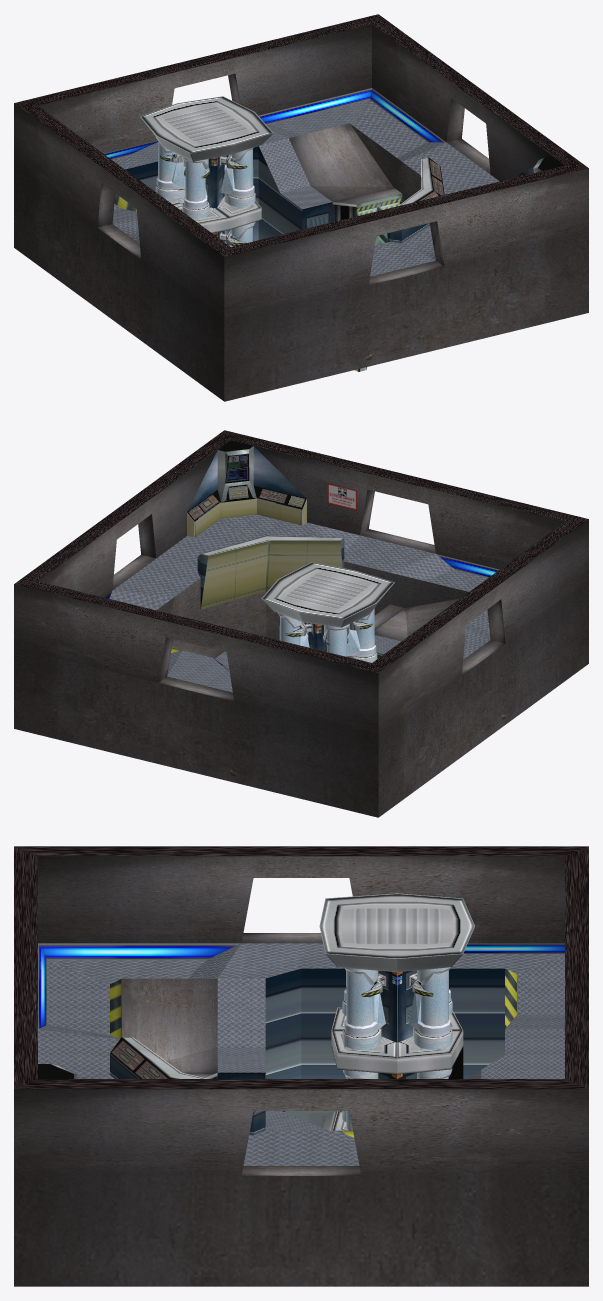
The model's file is alien_containment.FBX.
The picture shows the model from 3 angles, top to bottom: view 1: azimuth 30°, elevation 25°; view 2: azimuth 150°, elevation 25°; view 3: azimuth 270°, elevation 25°; orthographic projection. The views are drawn at different scales.
Visible parts, largest first — view 1: objalien_containment, objCryo_Container02, objCryo_Container01, objCryo_Container04; view 2: objalien_containment, objCryo_Container01, objCryo_Container04, objCryo_Container03; view 3: objalien_containment, objCryo_Container02, objCryo_Container03, objAlCon_Lift.
Boxes of the visible parts, x1=… form: objalien_containment: x1=14, y1=14, x2=588, y2=401; objCryo_Container02: x1=221, y1=148, x2=255, y2=207; objCryo_Container01: x1=182, y1=157, x2=209, y2=218; objCryo_Container04: x1=155, y1=137, x2=185, y2=199; objalien_containment: x1=14, y1=430, x2=588, y2=817; objCryo_Container01: x1=347, y1=606, x2=377, y2=662; objCryo_Container04: x1=324, y1=624, x2=349, y2=656; objCryo_Container03: x1=278, y1=613, x2=309, y2=647; objalien_containment: x1=14, y1=846, x2=588, y2=1286; objCryo_Container02: x1=342, y1=968, x2=385, y2=1050; objCryo_Container03: x1=409, y1=967, x2=452, y2=1049; objAlCon_Lift: x1=265, y1=1111, x2=327, y2=1130.
Bounding box in the file's own units: 24 × 10.79 × 24.
Materials: 2 (2 with a texture image).
